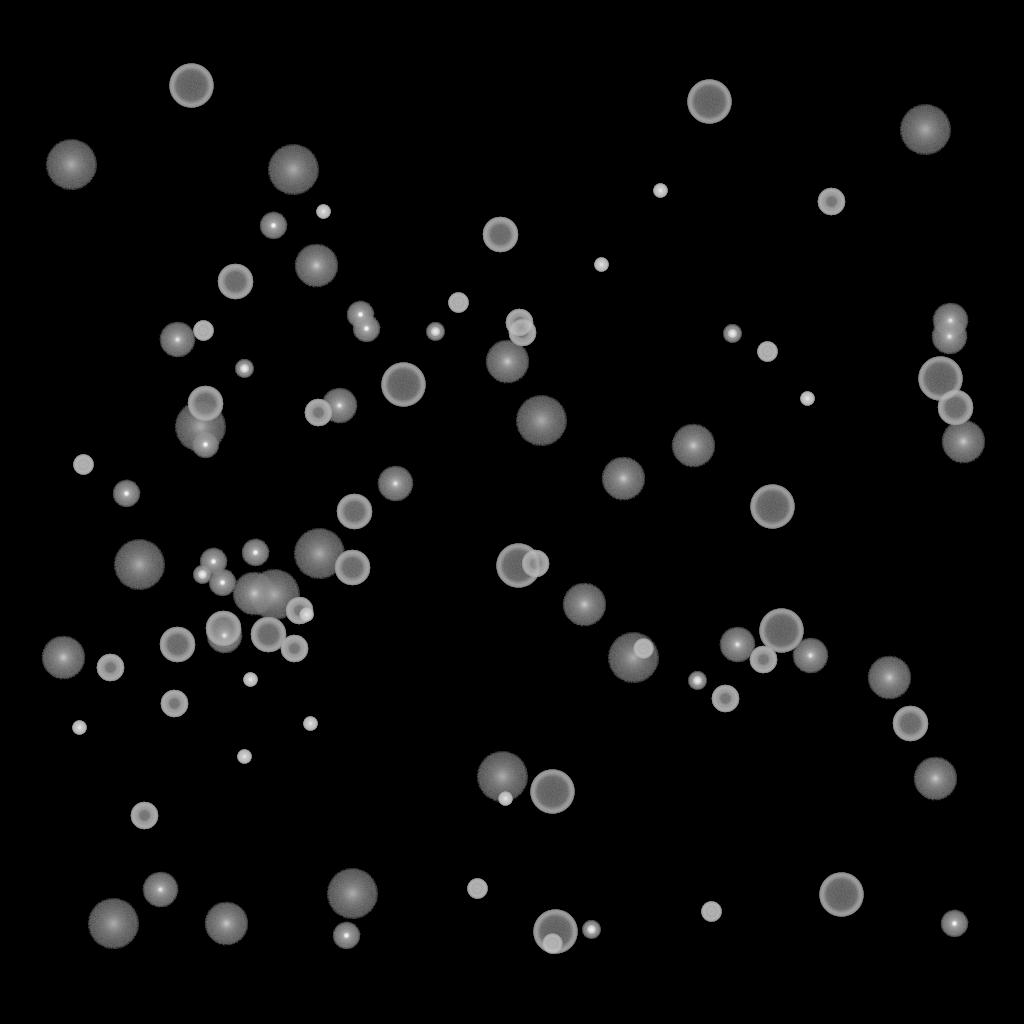depth:-10: (191, 431, 219, 459), (208, 569, 236, 597), (940, 910, 968, 938), (259, 212, 287, 240), (332, 922, 360, 950), (346, 301, 374, 329), (112, 480, 140, 508), (199, 548, 227, 576), (241, 539, 269, 567), (352, 315, 380, 343)
depth:-20: (723, 325, 741, 343), (688, 672, 706, 690), (193, 566, 211, 584), (235, 360, 253, 378), (426, 323, 444, 341), (582, 921, 600, 939)
depth:-30: (243, 673, 257, 687), (299, 608, 313, 622), (800, 392, 814, 406), (316, 205, 330, 219), (237, 750, 251, 764), (653, 184, 667, 198), (303, 717, 317, 731), (594, 258, 608, 272), (72, 721, 86, 735), (498, 792, 512, 806)
depth:-40: (757, 342, 777, 362), (467, 879, 487, 899), (73, 455, 93, 475), (633, 639, 653, 659), (701, 902, 721, 922), (448, 293, 468, 313), (542, 934, 562, 954), (193, 321, 213, 341)
depth:-50: (711, 685, 739, 713), (96, 654, 124, 682), (817, 188, 845, 216), (160, 690, 188, 718), (285, 597, 313, 625), (505, 309, 533, 337), (508, 319, 536, 347), (521, 550, 549, 578), (280, 635, 308, 663), (130, 802, 158, 830), (304, 399, 332, 427), (749, 646, 777, 674)
depth:-60: (250, 617, 286, 653), (482, 217, 518, 253), (937, 390, 973, 426), (187, 386, 223, 422), (892, 706, 928, 742), (336, 494, 372, 530), (217, 264, 253, 300), (159, 627, 195, 663), (205, 611, 241, 647), (334, 550, 370, 586)
depth:-70: (530, 770, 574, 814), (750, 485, 794, 529), (759, 609, 803, 653), (381, 363, 425, 407), (687, 80, 731, 124), (169, 64, 213, 108), (533, 910, 577, 954), (918, 357, 962, 401), (819, 873, 863, 917), (496, 544, 540, 588)
depth:0: (931, 319, 967, 355), (377, 466, 413, 502), (159, 322, 195, 358), (792, 638, 828, 674), (142, 872, 178, 908), (719, 627, 755, 663), (206, 618, 242, 654), (932, 303, 968, 339), (321, 388, 357, 424)
depth:10: (294, 244, 338, 288), (232, 572, 276, 616), (485, 340, 529, 384), (671, 424, 715, 468), (913, 757, 957, 801), (562, 583, 606, 627), (867, 656, 911, 700), (41, 636, 85, 680), (941, 420, 985, 464), (601, 457, 645, 501), (204, 902, 248, 946)
depth:20: (45, 140, 97, 190), (515, 396, 567, 446), (476, 752, 528, 802), (87, 899, 139, 949), (899, 105, 951, 155), (293, 529, 345, 579), (326, 869, 378, 919), (248, 570, 300, 620), (174, 402, 226, 452), (607, 633, 659, 683), (113, 540, 165, 590), (267, 145, 319, 195)
